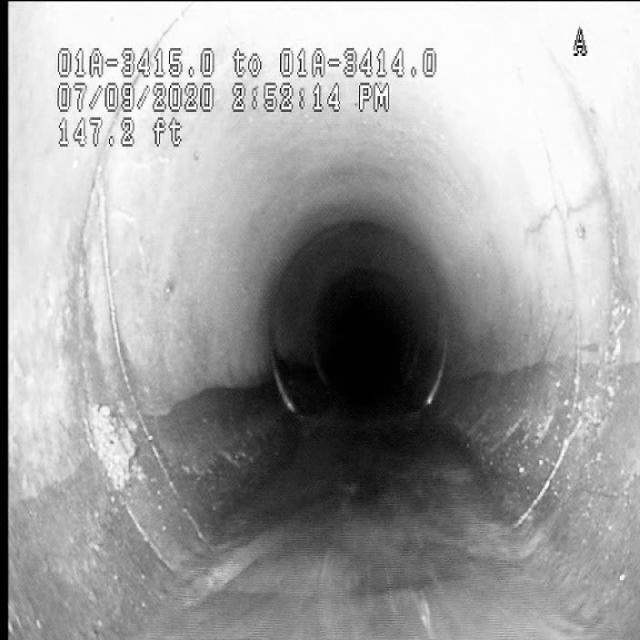Crack: (508, 102, 620, 510), (82, 202, 184, 514)
